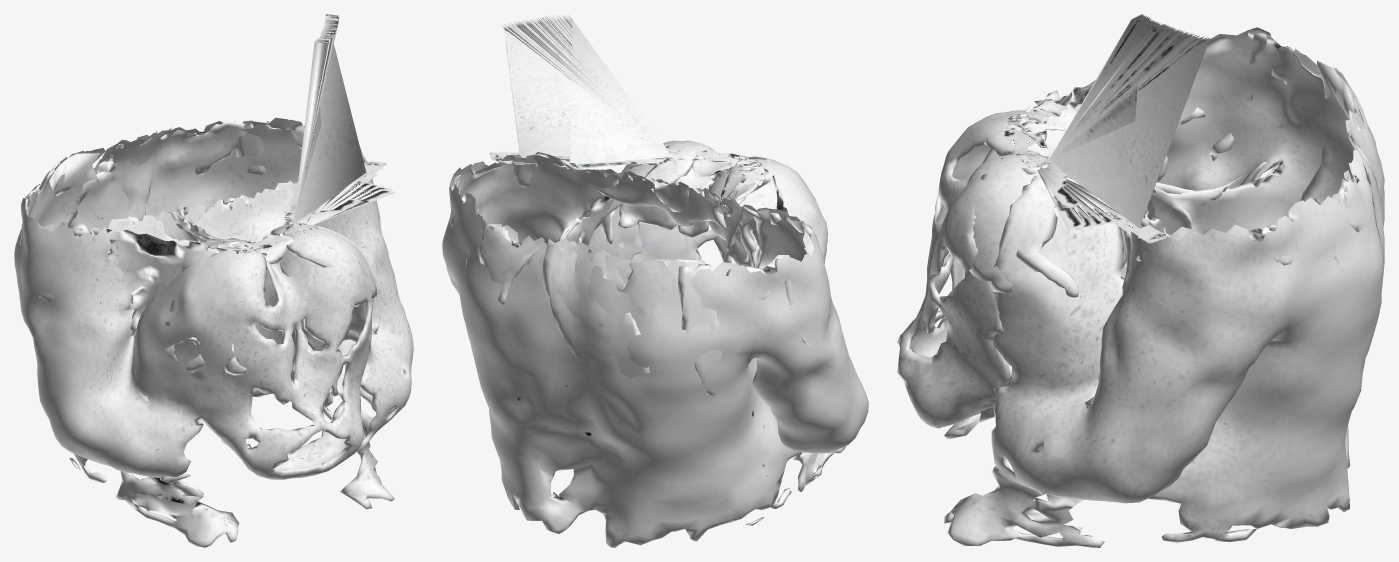
File: wire_mesh_sculpture.glb
3 views of the same model, side by side, from view 1: azimuth 30°, elevation 25°; view 2: azimuth 150°, elevation 25°; view 3: azimuth 270°, elevation 25° (orthographic). The views are drawn at different scales.
Bounding box in the file's own units: 1.3 × 1.45 × 1.21.
Materials: 1 (1 with a texture image).
